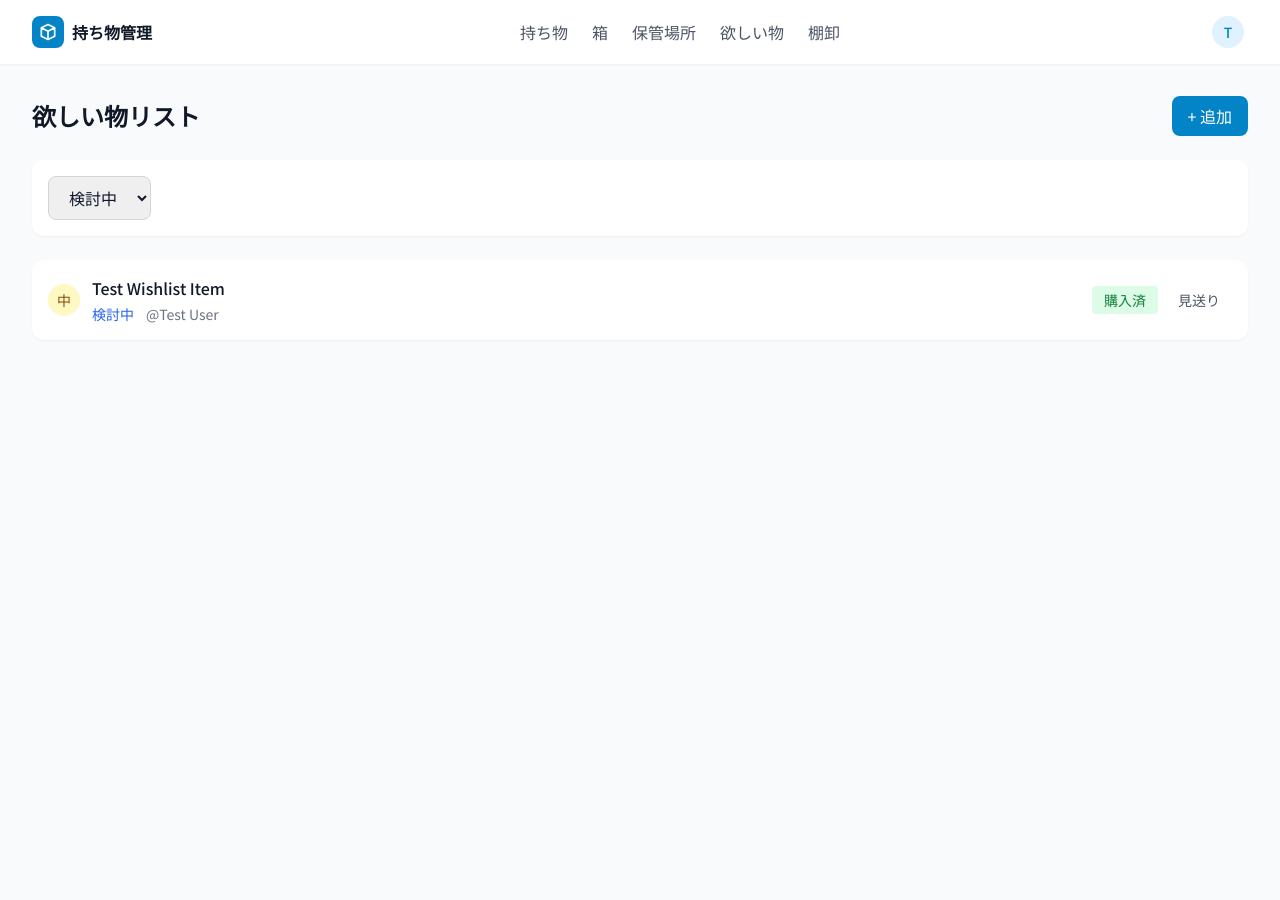
WishlistPage › should open cancel modal when clicking cancel button
This screenshot has width=1280, height=900.
Expected: the text "Test Wishlist Item" is shown, [92,276,225,300]
Click the button "見送り" at (1199, 300), box [1166,286,1232,314]
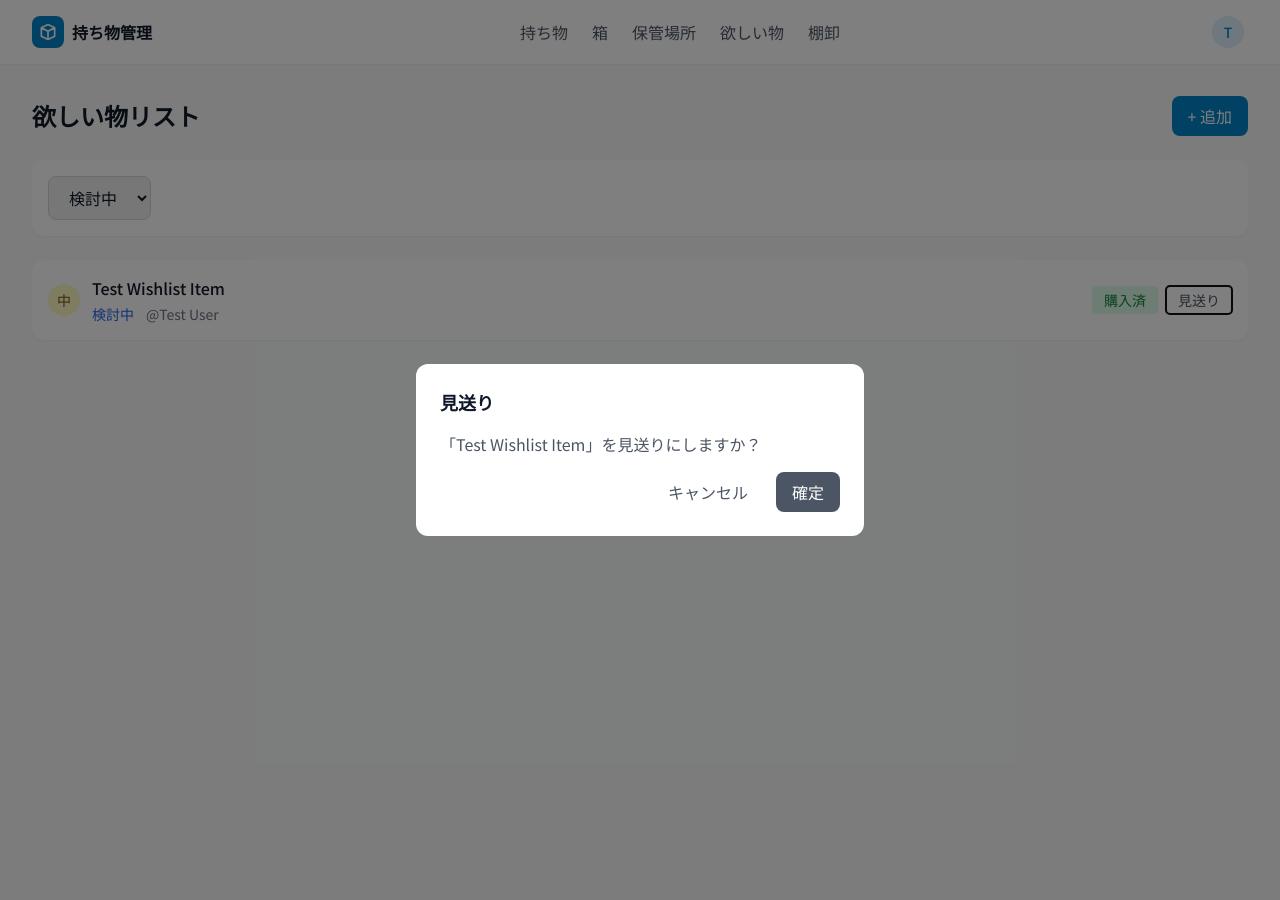
Expected: the text "見送りにしますか" is shown, [617,432,761,456]
